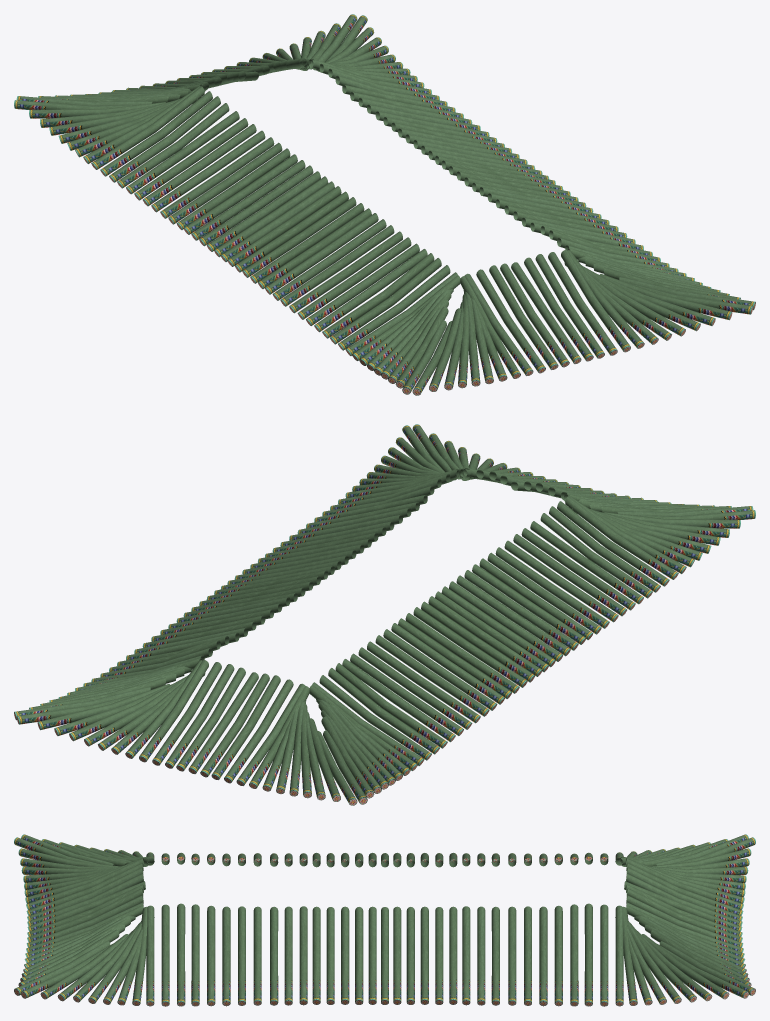
Rendered from SM_Seokkalae06E.fbx.
3 views of the same model, one above another, from view 1: azimuth 30°, elevation 25°; view 2: azimuth 150°, elevation 25°; view 3: azimuth 270°, elevation 25° (orthographic). The views are drawn at different scales.
Visible parts, largest first — view 1: SM_Seokkalae06E; view 2: SM_Seokkalae06E; view 3: SM_Seokkalae06E.
Boxes of the visible parts, x1=… form: SM_Seokkalae06E: x1=14, y1=14, x2=755, y2=395; SM_Seokkalae06E: x1=14, y1=424, x2=755, y2=805; SM_Seokkalae06E: x1=14, y1=834, x2=755, y2=1006.
Size of the model in its own units: 769 by 1514 by 126.
